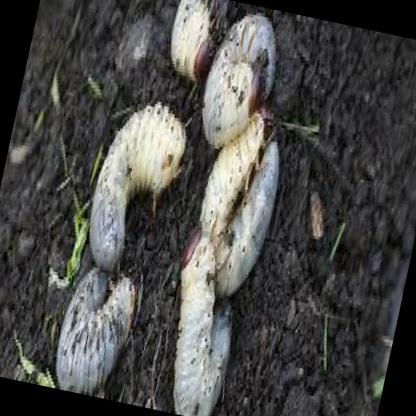root grubs: (89, 103, 185, 272), (201, 109, 278, 297), (173, 225, 233, 416), (200, 13, 278, 157)
